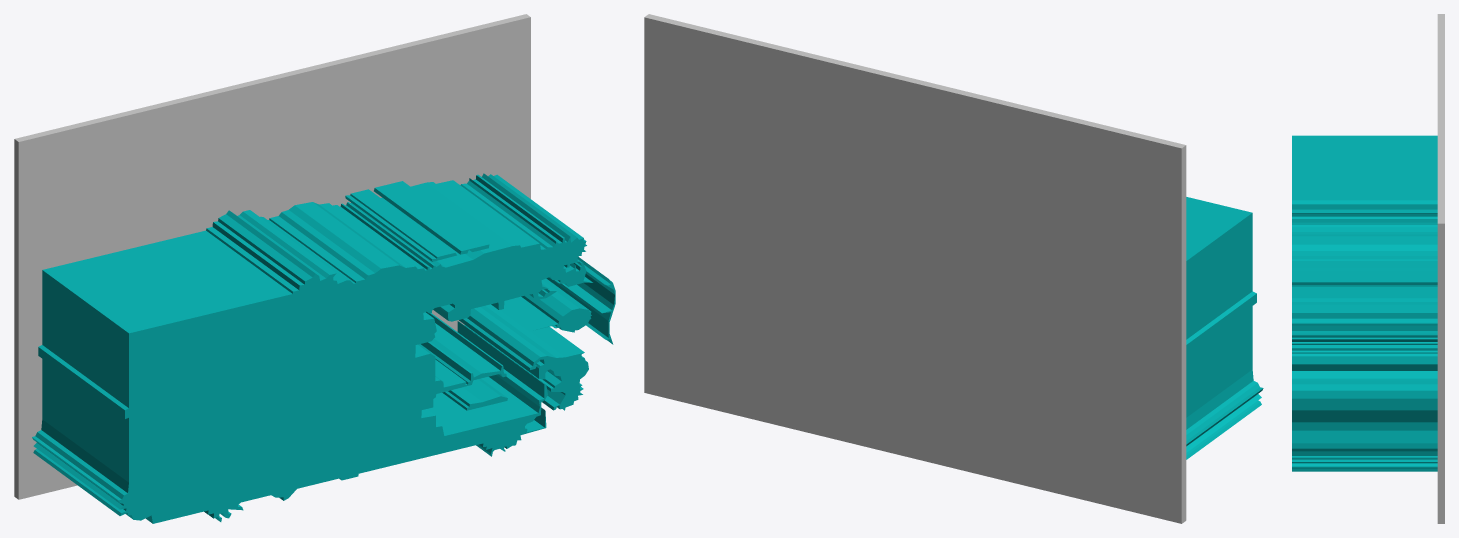
3 renders of one model, left to right at view 1: azimuth 30°, elevation 25°; view 2: azimuth 150°, elevation 25°; view 3: azimuth 270°, elevation 25°, orthographic. The views are drawn at different scales.
Visible parts, largest first — view 1: world; view 2: world; view 3: world.
Part boxes in pixels (left/top/right/bottom): world: left=14, top=14, right=615, bottom=523; world: left=644, top=14, right=1263, bottom=523; world: left=1292, top=14, right=1444, bottom=523.
Size of the model in its own units: 10.23 by 6.83 by 3.15.
